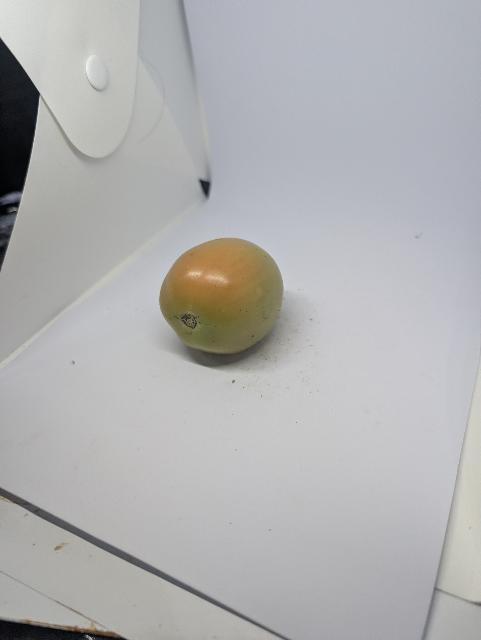breaker: (156, 235, 288, 357)
